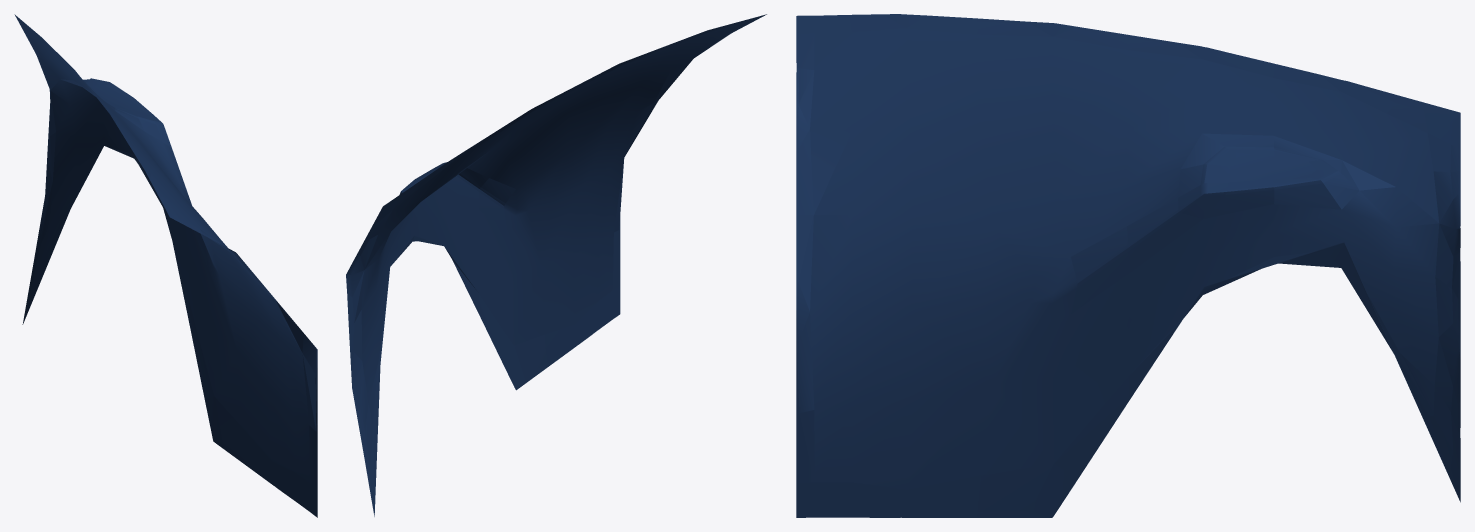
File: rear_quarter_left.glb
The picture shows the model from 3 angles, left to right: view 1: azimuth 30°, elevation 25°; view 2: azimuth 150°, elevation 25°; view 3: azimuth 270°, elevation 25°; orthographic projection. The views are drawn at different scales.
Visible parts, largest first — view 1: GEO_Quarter_Rear_Left; view 2: GEO_Quarter_Rear_Left; view 3: GEO_Quarter_Rear_Left.
Boxes of the visible parts, x1=… form: GEO_Quarter_Rear_Left: x1=14, y1=14, x2=317, y2=517; GEO_Quarter_Rear_Left: x1=346, y1=14, x2=766, y2=516; GEO_Quarter_Rear_Left: x1=796, y1=14, x2=1460, y2=517.
Size of the model in its own units: 0.3894 by 0.8194 by 1.14.
